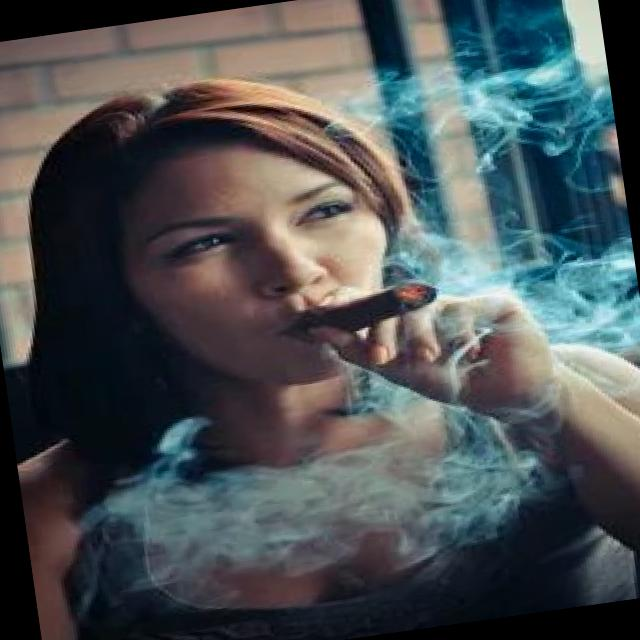smoke: (290, 272, 444, 352)
